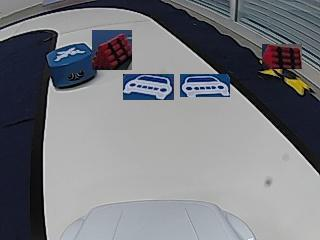spy: (55, 47, 85, 61)
